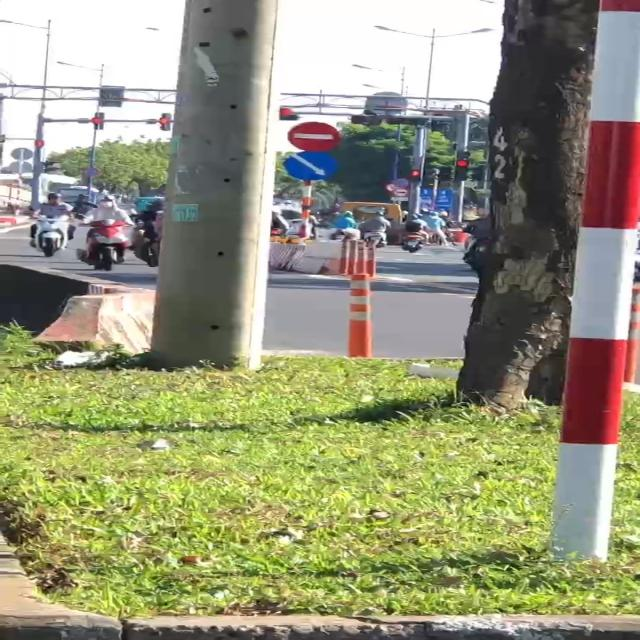Bien bao cam di nguoc chieu: (284, 118, 350, 150)
Bien bao huong phai di vong chuong ngai vat: (284, 150, 347, 183)
